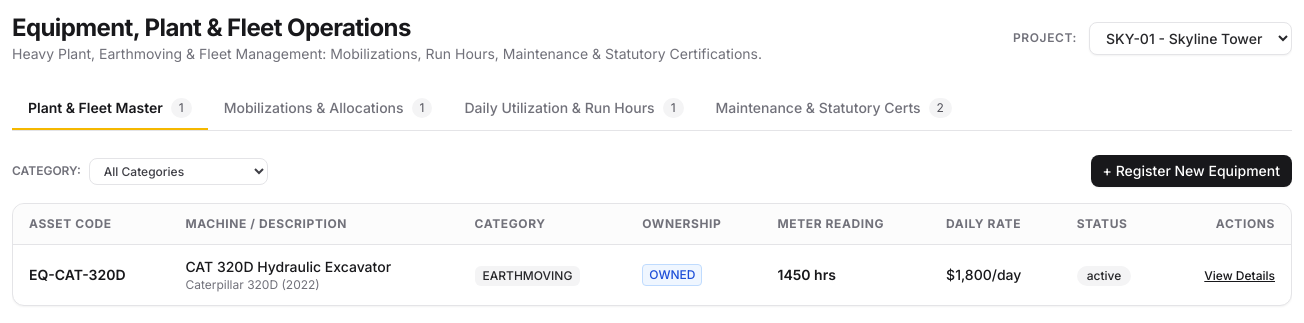
Test: EquipmentPage Component › switches to Mobilizations & Allocations tab and renders allocations
expect the heading "Equipment, Plant & Fleet Operations" is shown: met, box [12,13,411,42]
Click the button "Mobilizations & Allocations 1".
click(328, 109)  # box [208,88,448,130]
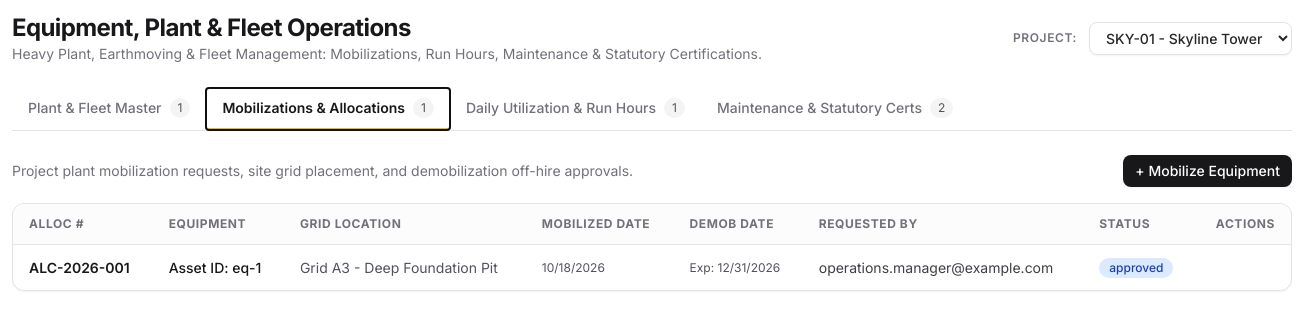
expect the text "Grid A3 - Deep Foundation Pit" is shown: met, box [284,244,526,290]
expect the text "ALC-2026-001" is shown: met, box [13,244,153,290]
expect the text "approved" is shown: met, box [1099,258,1173,278]
